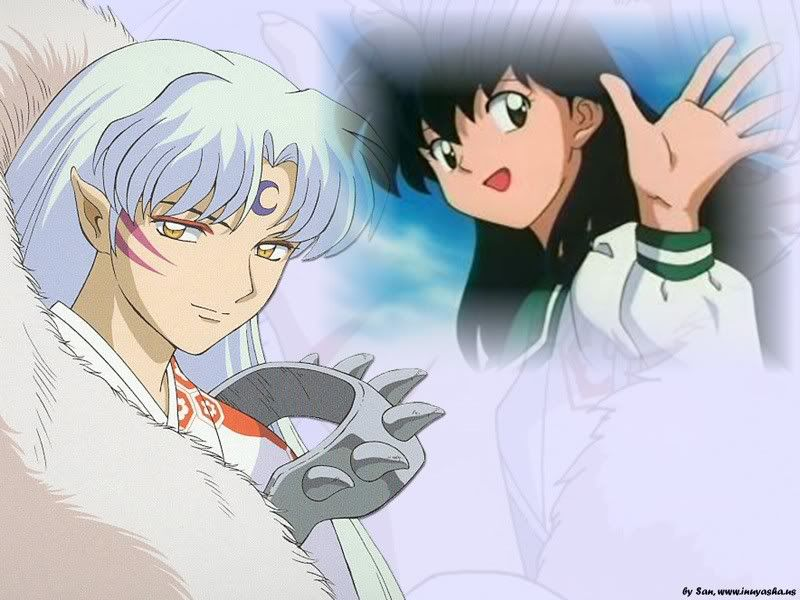sesshomaru: (21, 37, 387, 445)
